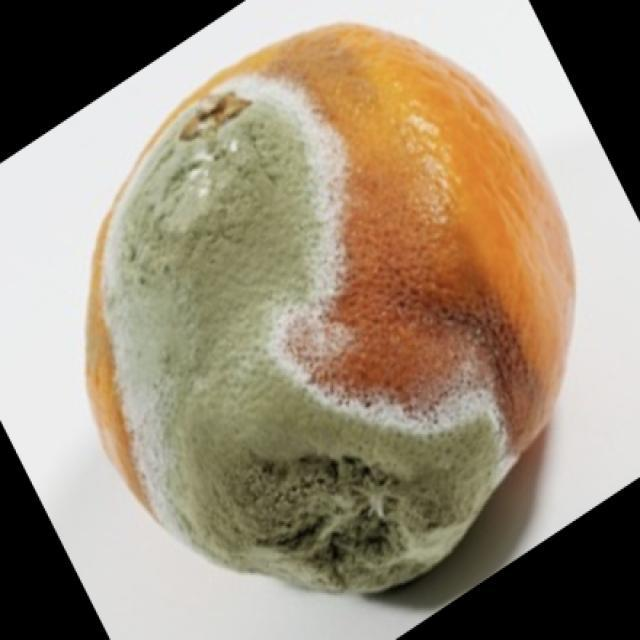sangat-busuk: (86, 24, 574, 594)
